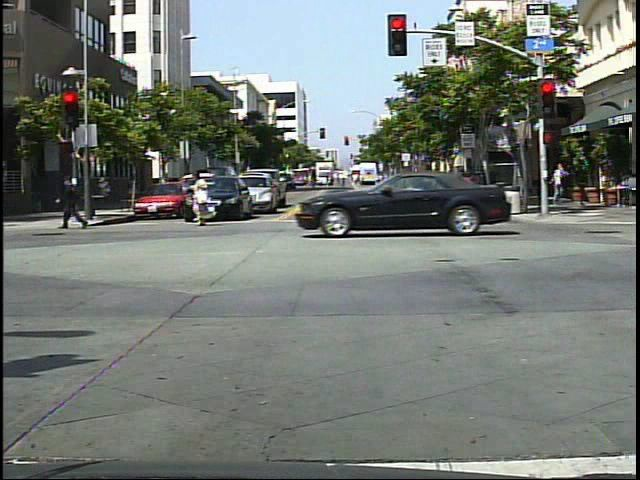person: (57, 169, 91, 235), (187, 169, 219, 230), (453, 165, 485, 225), (549, 160, 571, 211)
